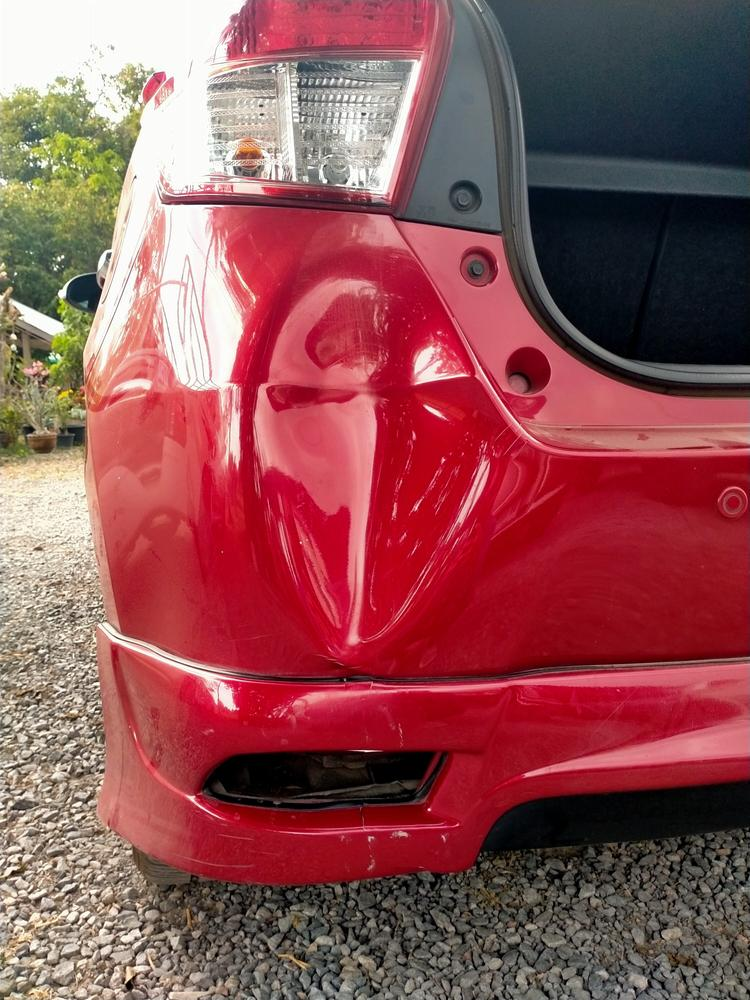dent: (242, 245, 516, 647)
